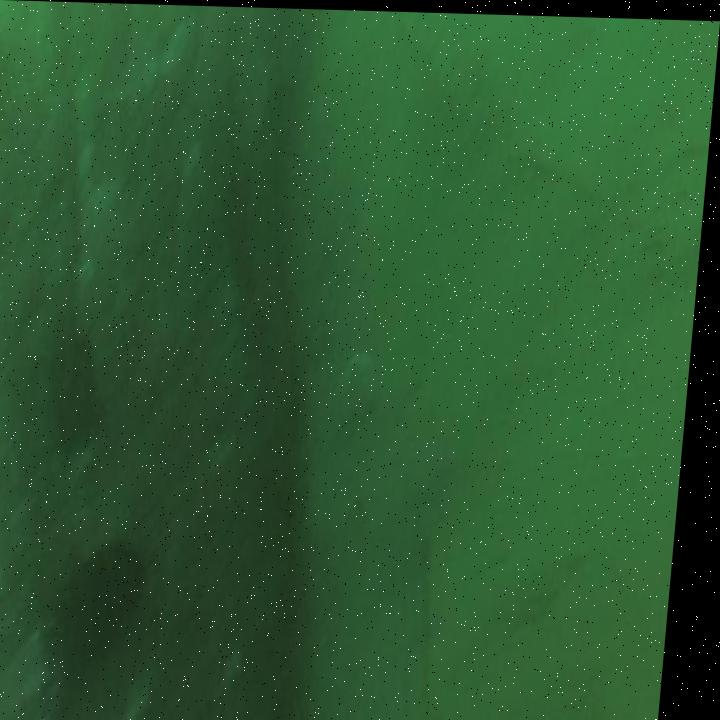echinus: (56, 527, 162, 703), (49, 326, 112, 458)
